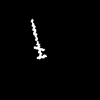double_crochet: (31, 19, 46, 58)
